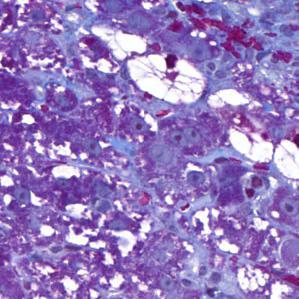ballooning: (127, 49, 208, 111), (225, 112, 277, 165)
